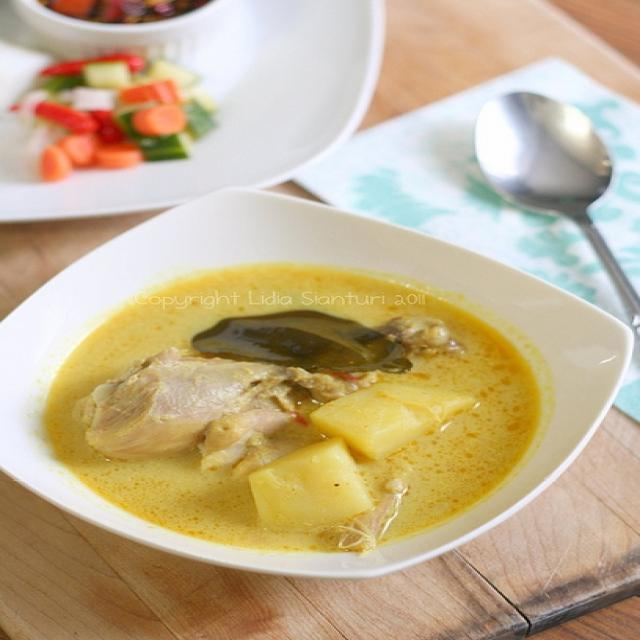熟制海鲜: (39, 186, 571, 568)
